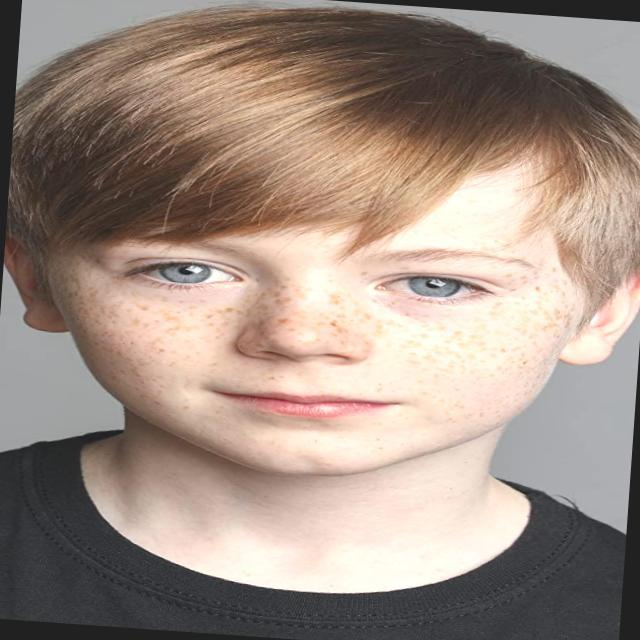freckle: (59, 264, 571, 421)
